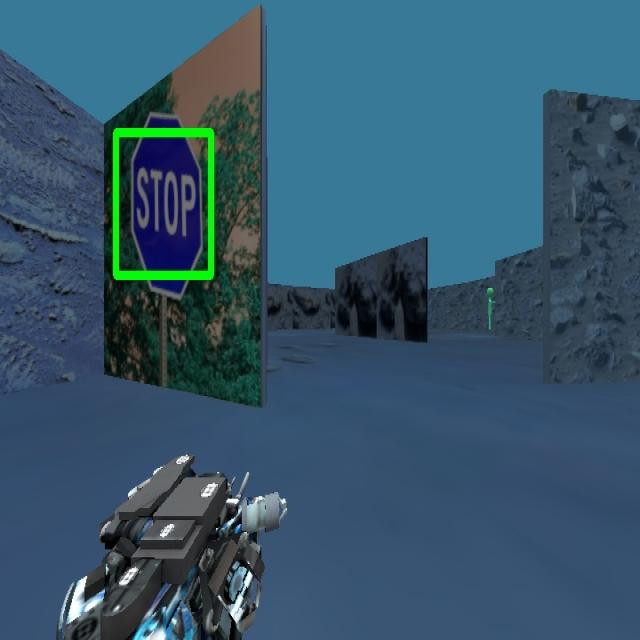Alien: (477, 252, 502, 348)
Stop_Sign: (116, 118, 216, 281)
